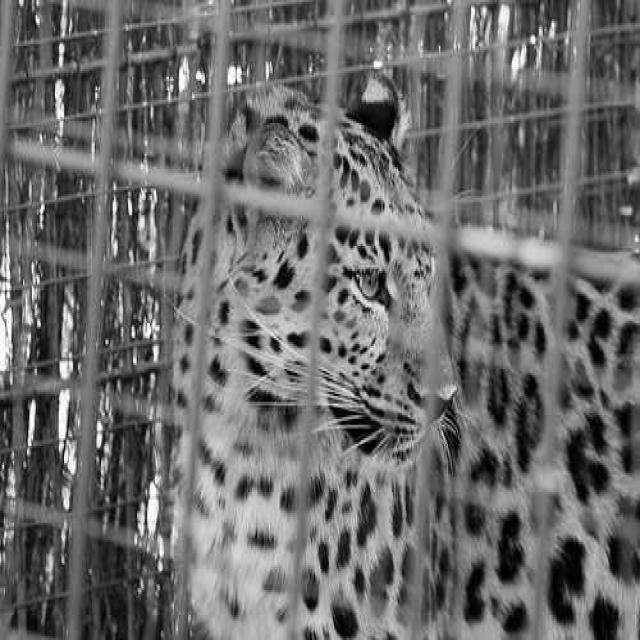Leopard: (162, 67, 638, 638)
